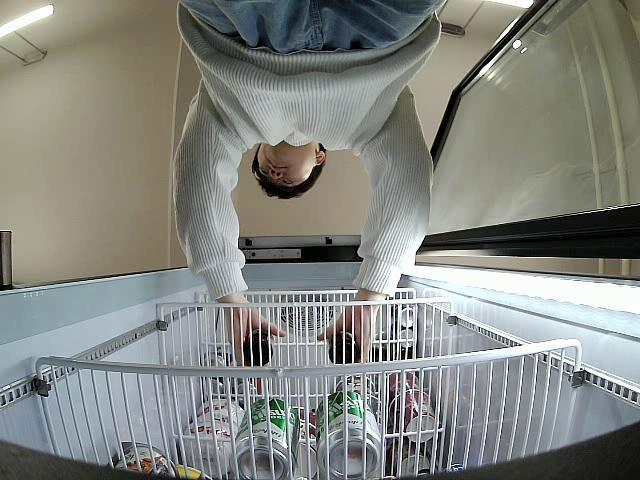17_vita500: (242, 329, 274, 366), (327, 334, 360, 366)
